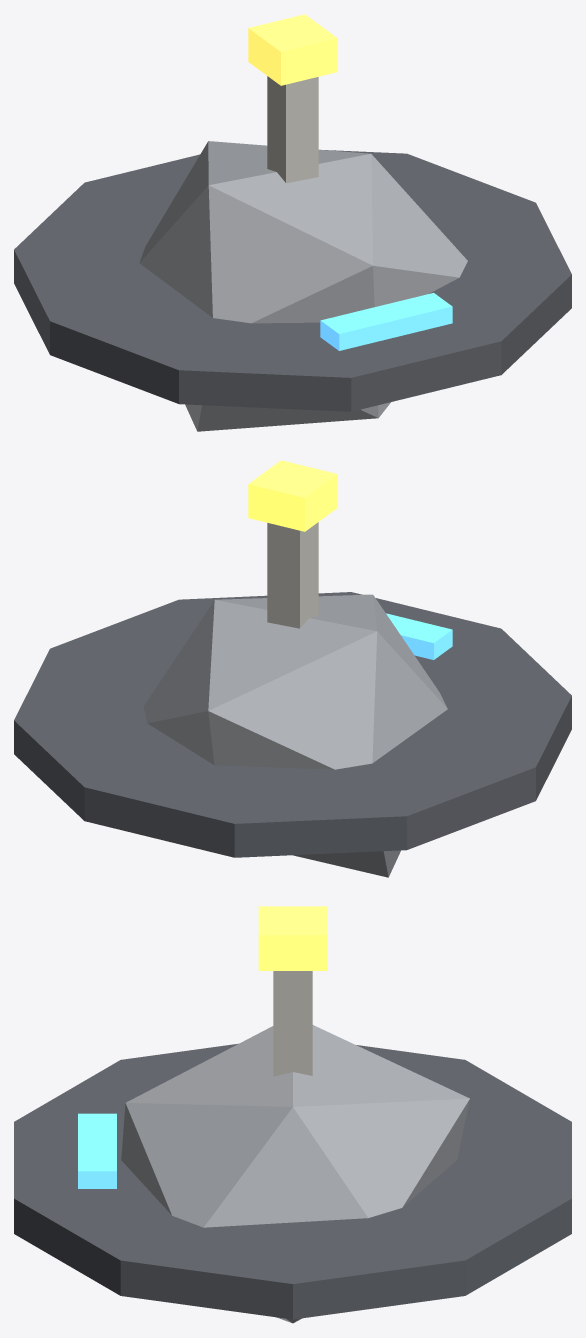
The model's file is SPARK2.glb.
3 views of the same model, one above another, from view 1: azimuth 30°, elevation 25°; view 2: azimuth 150°, elevation 25°; view 3: azimuth 270°, elevation 25° (orthographic). The views are drawn at different scales.
Parts seen in each view (by area): view 1: SPARK2; view 2: SPARK2; view 3: SPARK2.
Part boxes in pixels (bbox=[...]): SPARK2: bbox=[14, 14, 571, 431]; SPARK2: bbox=[14, 460, 571, 877]; SPARK2: bbox=[14, 906, 571, 1323].
Size of the model in its own units: 0.6 by 0.4428 by 0.5706.
